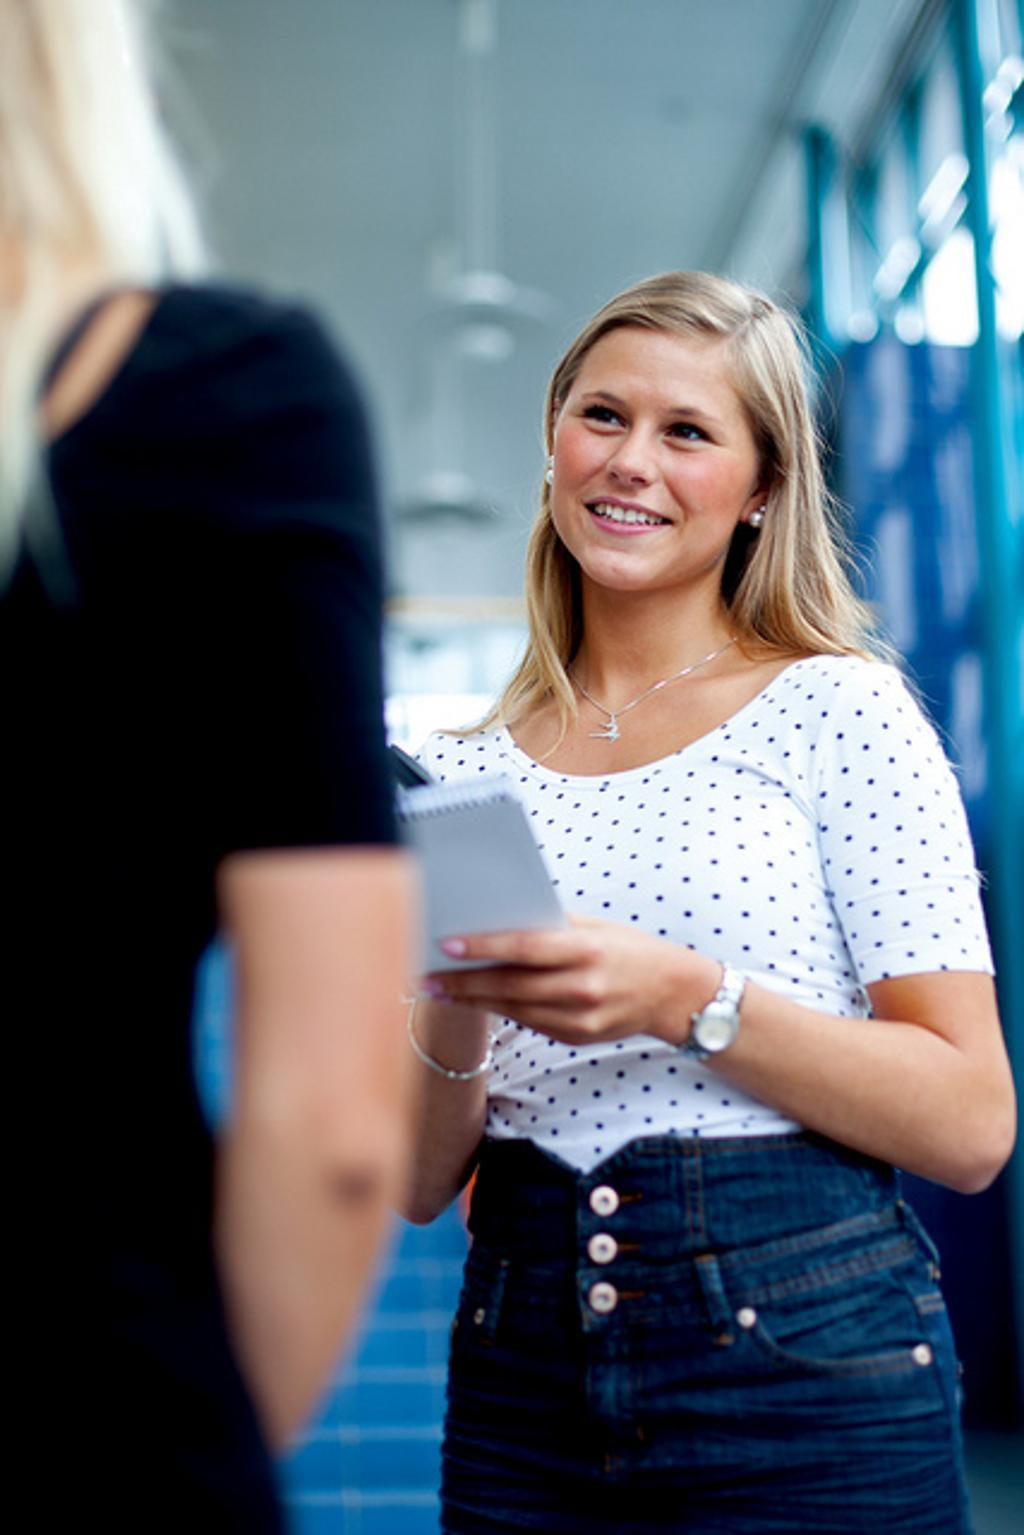face: (563, 338, 743, 584)
